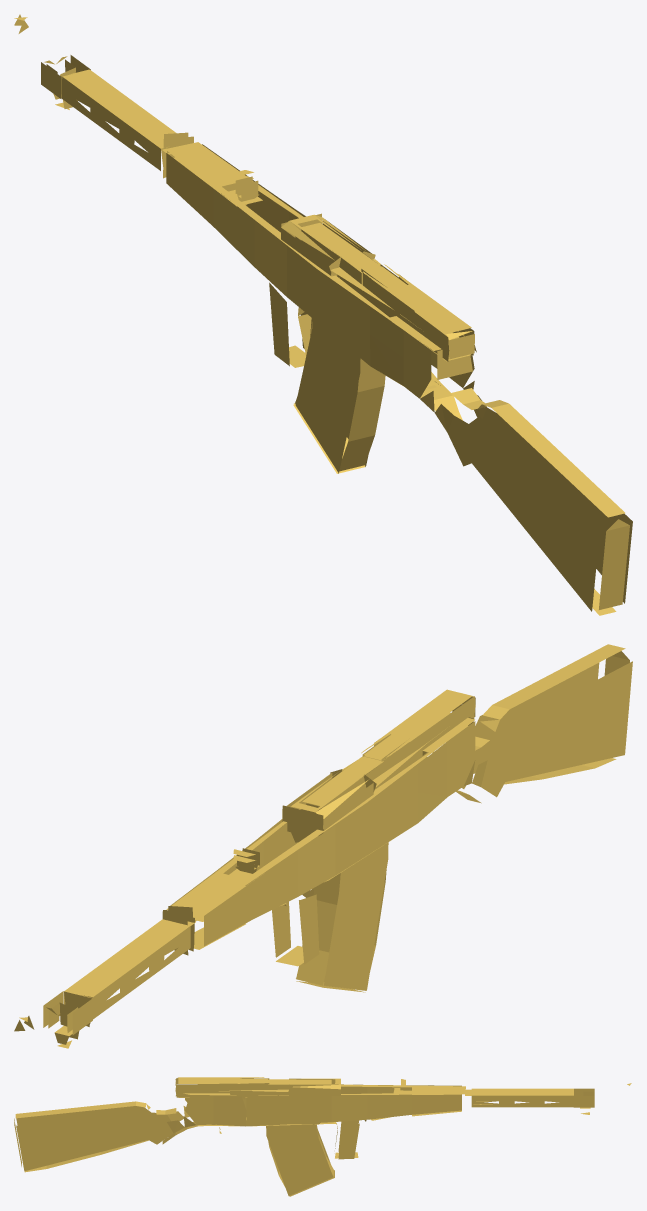
The model's file is charm_mst_fusil_5.glb.
The picture shows the model from 3 angles, top to bottom: view 1: azimuth 30°, elevation 25°; view 2: azimuth 150°, elevation 25°; view 3: azimuth 270°, elevation 25°; orthographic projection. The views are drawn at different scales.
Parts seen in each view (by area): view 1: p0_paint; view 2: p0_paint; view 3: p0_paint.
Boxes of the visible parts, <box> form: p0_paint: <box>14,14,632,615</box>; p0_paint: <box>14,644,632,1048</box>; p0_paint: <box>14,1077,631,1196</box>.
Bounding box in the file's own units: 0.0467 × 0.2052 × 1.02.
